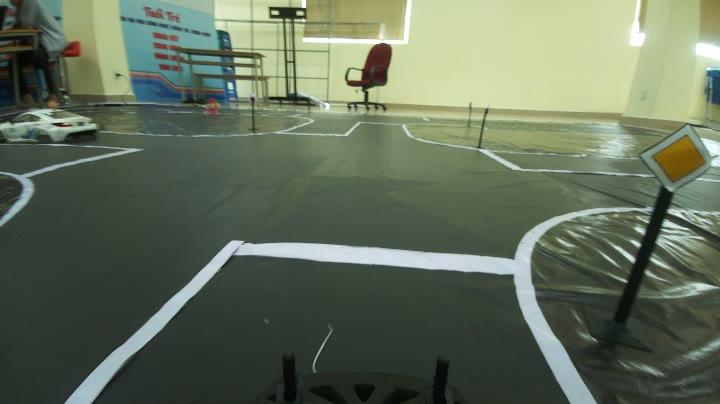priority: (634, 117, 716, 202)
